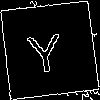Y: (24, 25, 65, 75)
